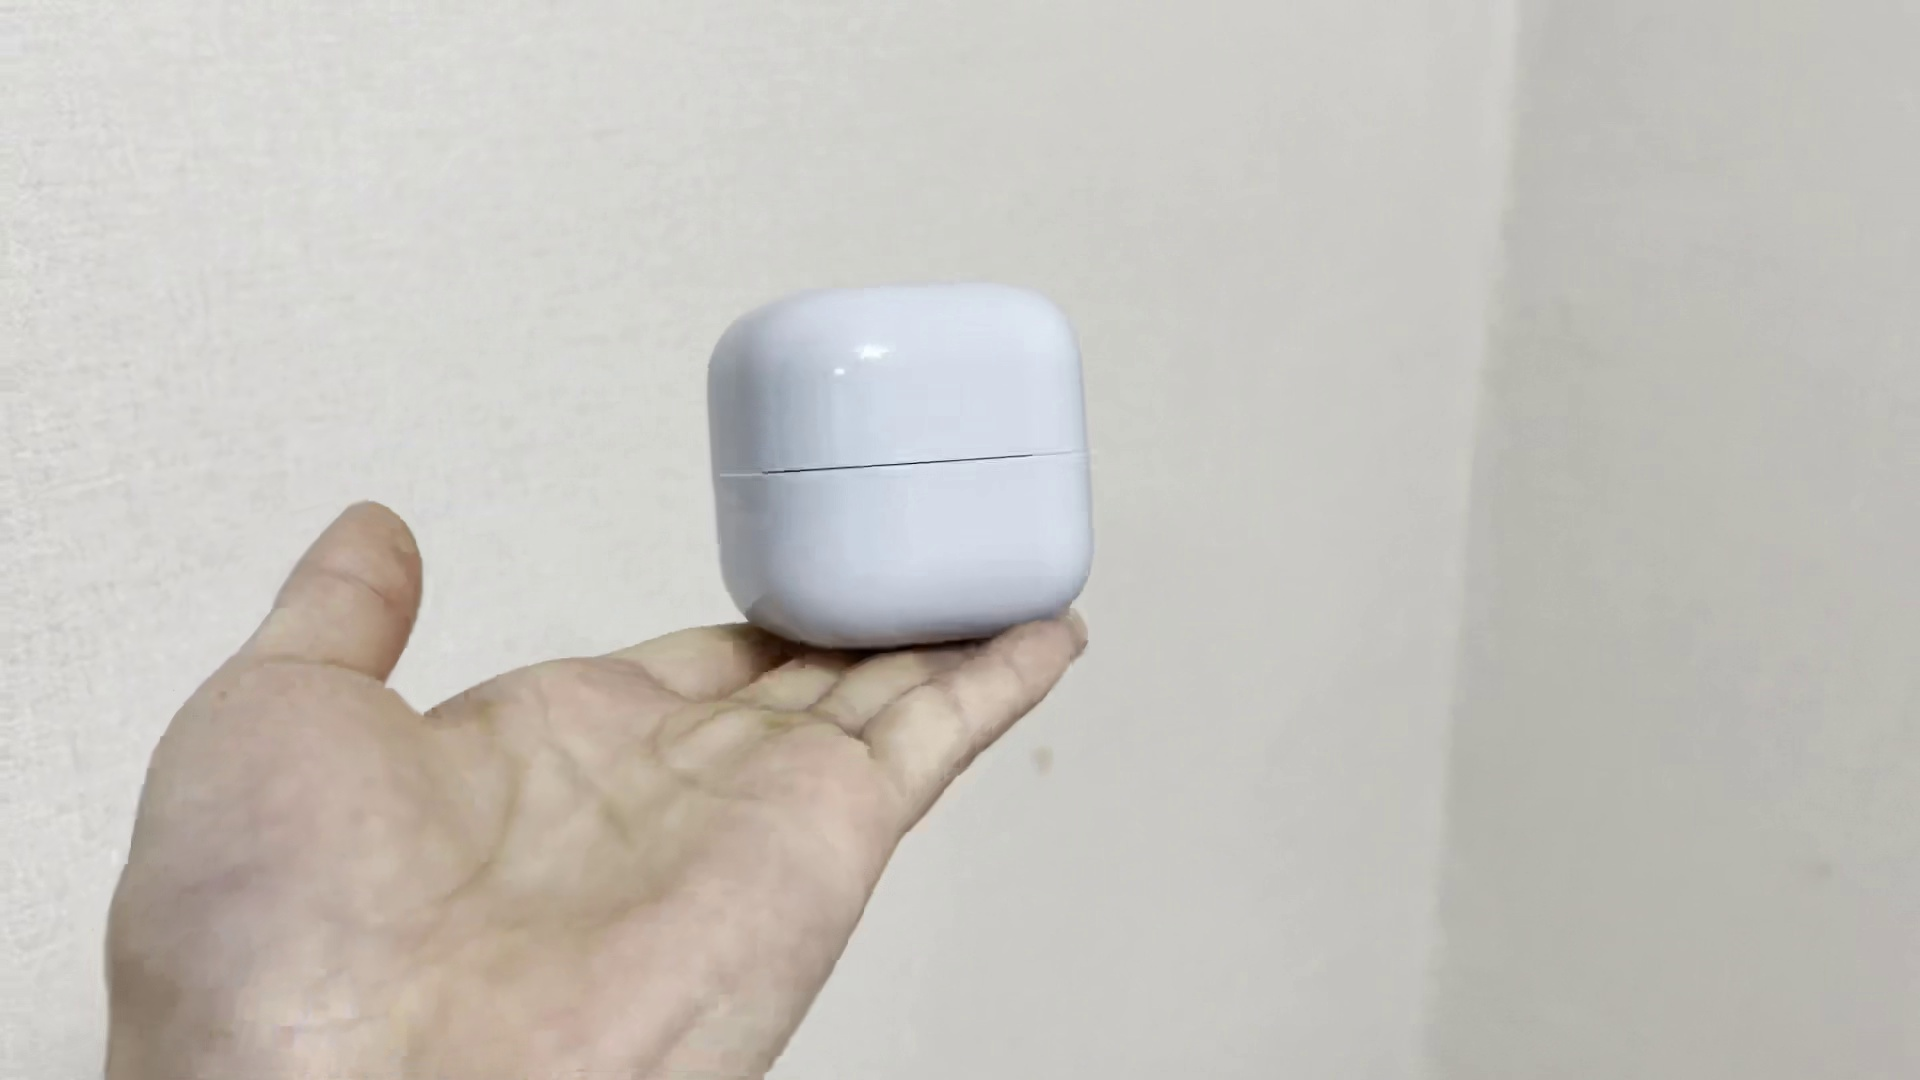cream: (704, 284, 1088, 642)
